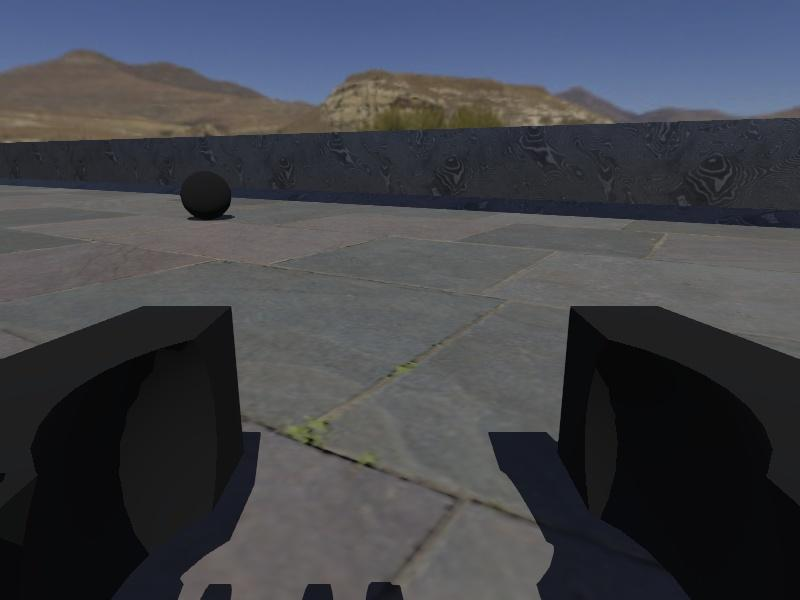black ball: (182, 170, 232, 222)
